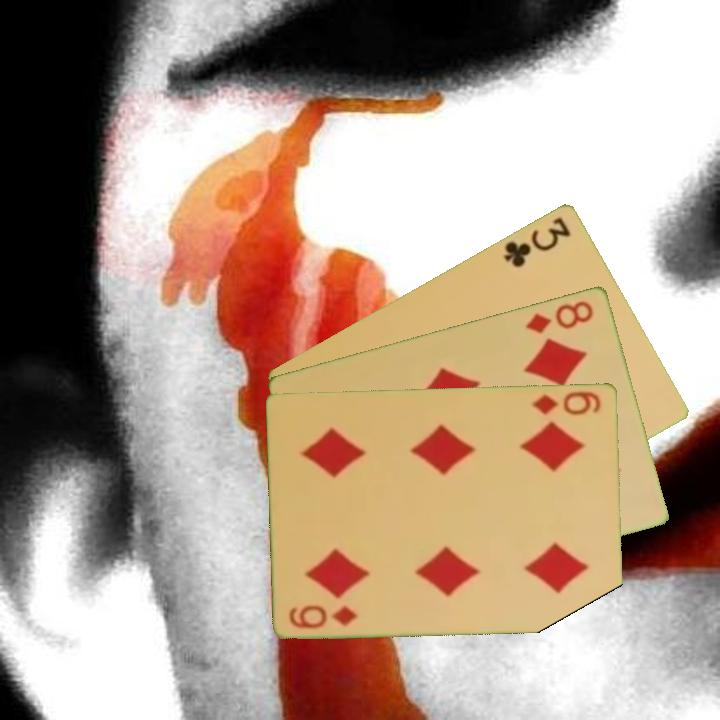3c: (500, 213, 574, 270)
6d: (286, 601, 361, 632), (528, 387, 604, 417)
8d: (522, 296, 597, 336)
